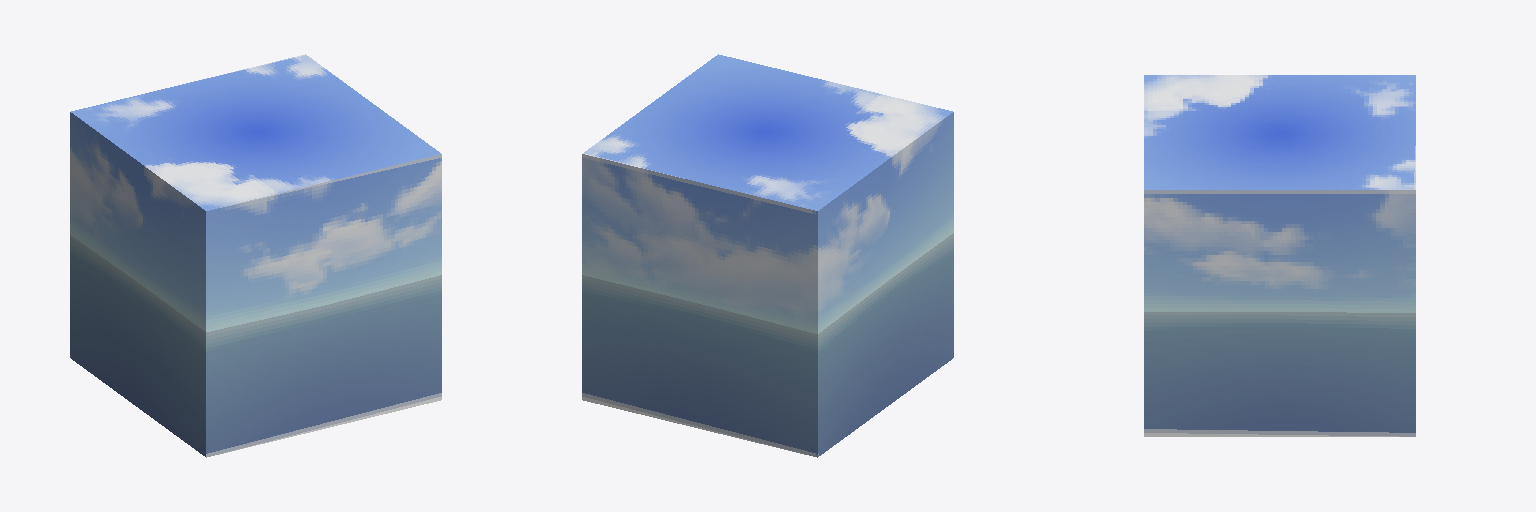
3 renders of one model, left to right at view 1: azimuth 30°, elevation 25°; view 2: azimuth 150°, elevation 25°; view 3: azimuth 270°, elevation 25°, orthographic.
Visible parts, largest first — view 1: Cube.001; view 2: Cube.001; view 3: Cube.001.
Boxes of the visible parts, box(x1,y1,x2,y2) form: Cube.001: box(70, 54, 441, 457); Cube.001: box(582, 54, 953, 457); Cube.001: box(1144, 75, 1415, 436).
Bounding box in the file's own units: 2 × 2 × 2.
Materials: 1 (1 with a texture image).